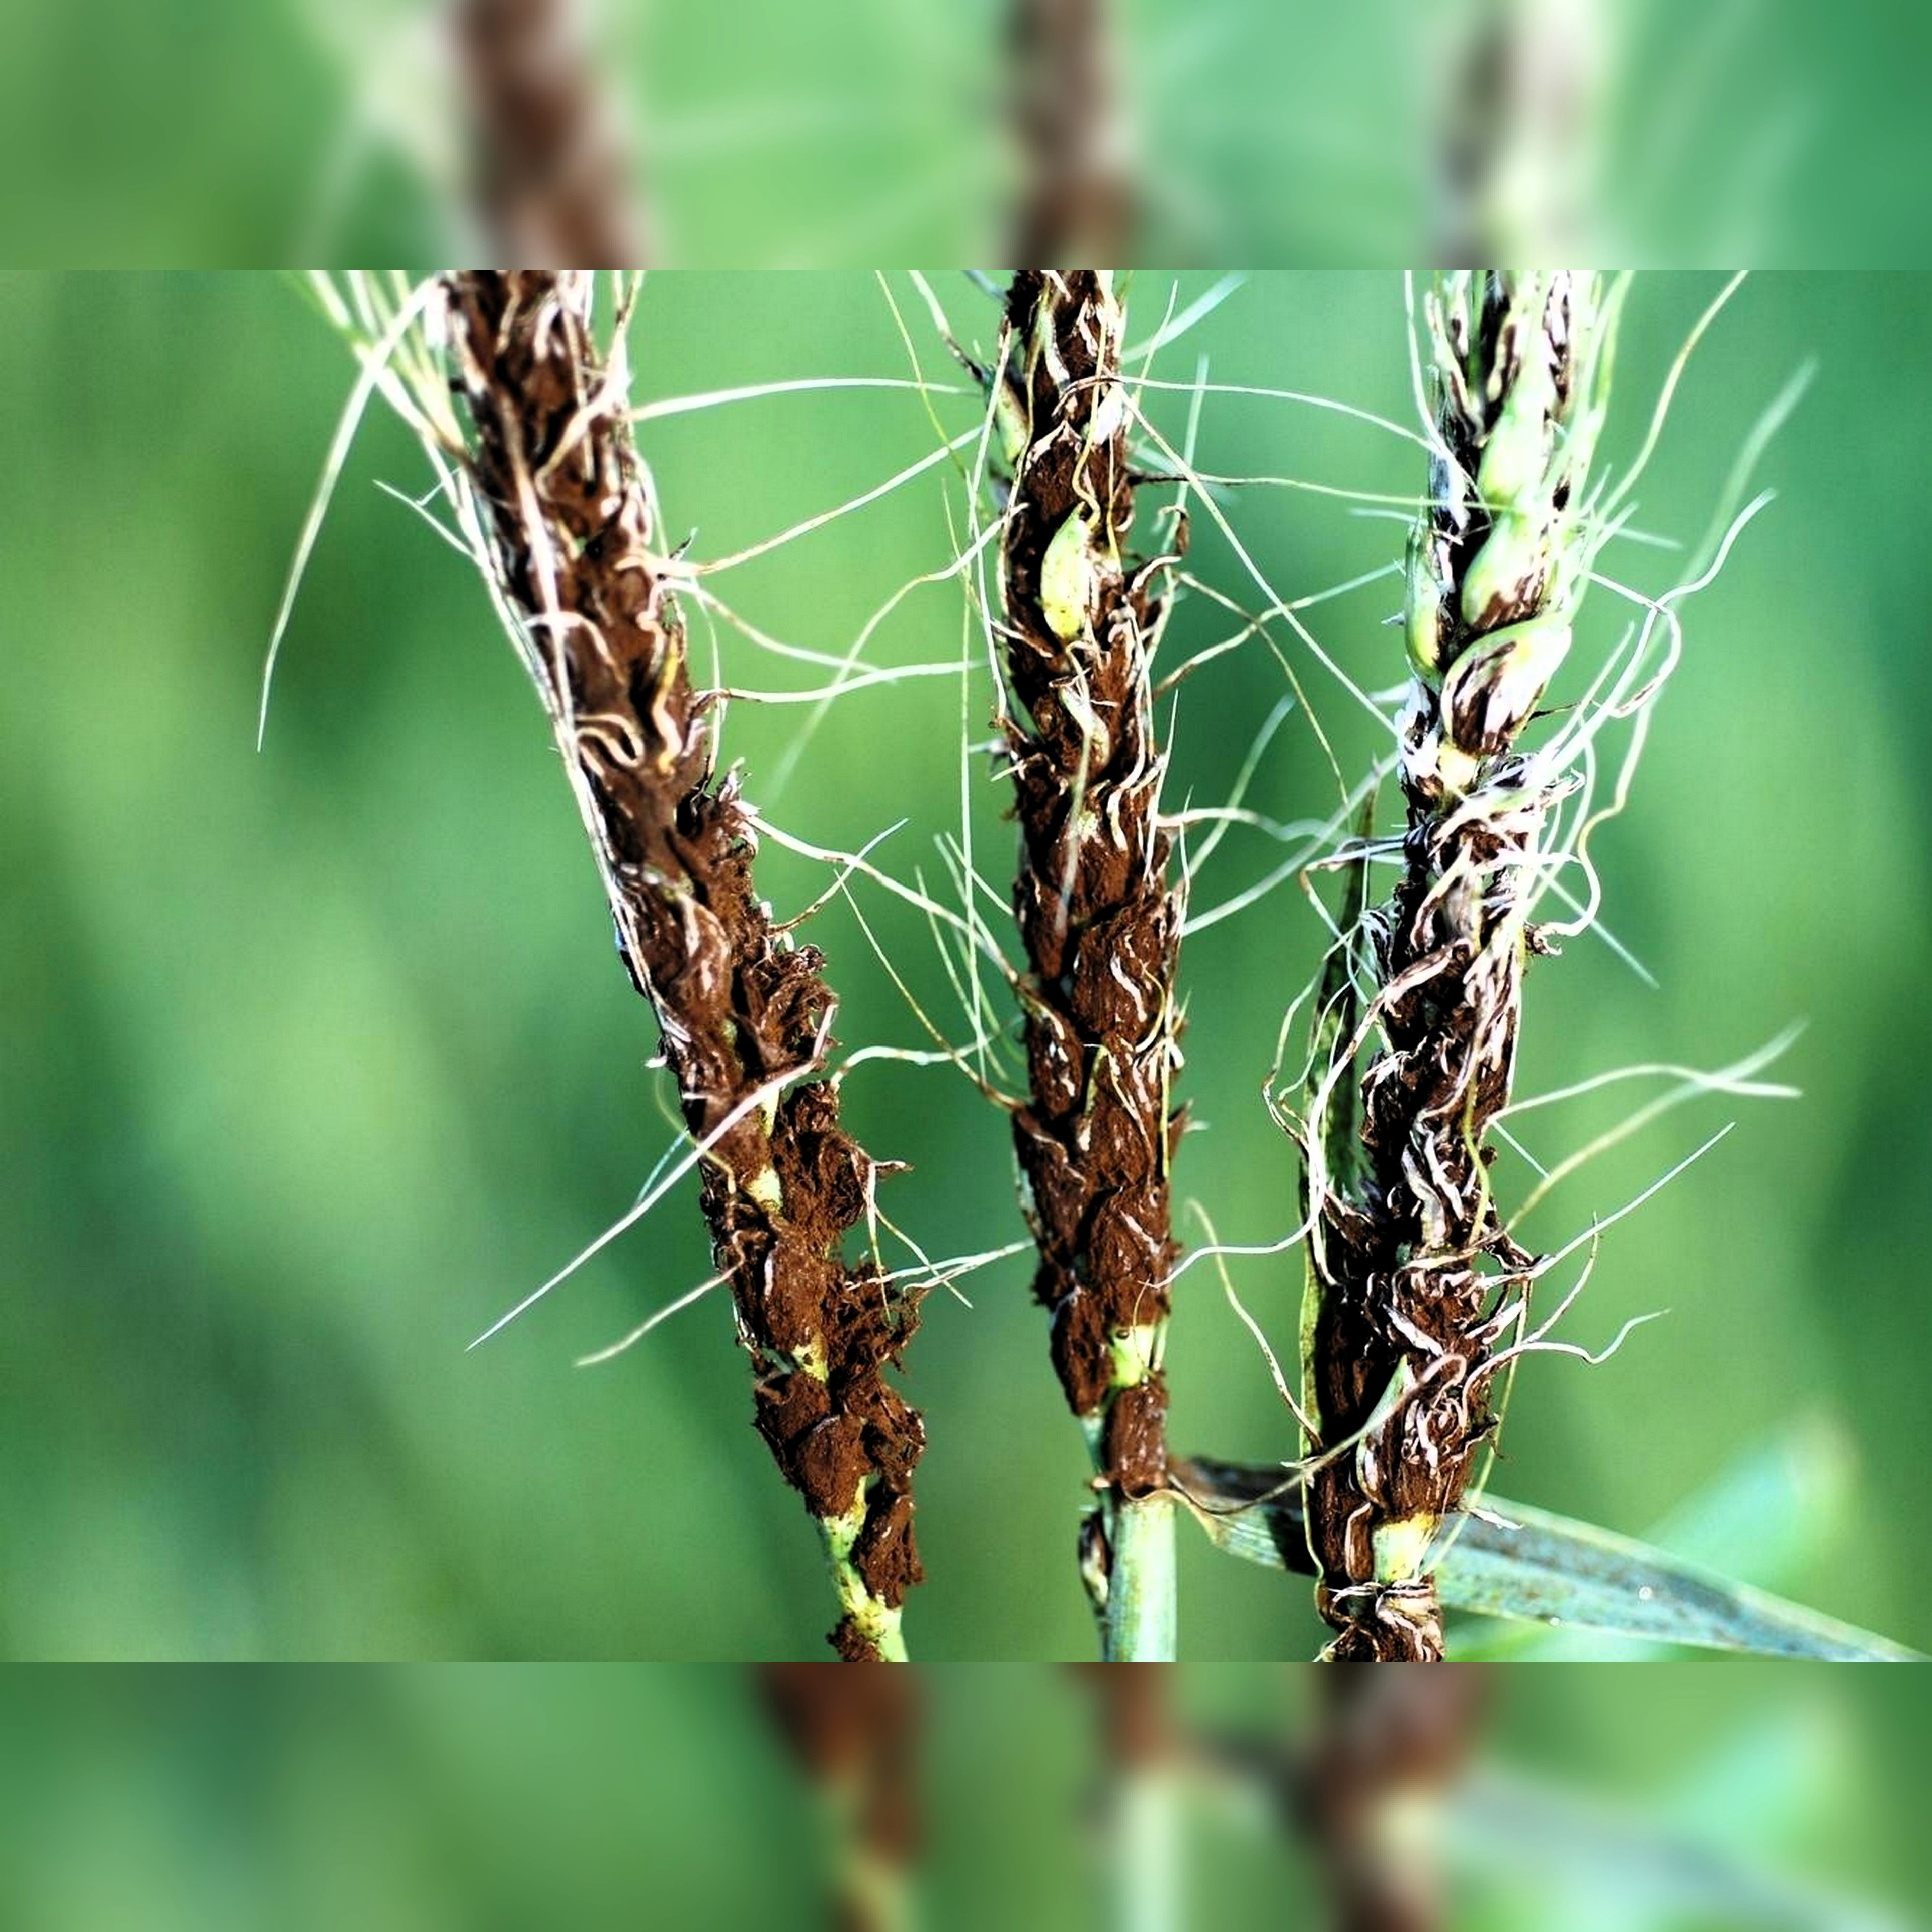Wheat Loose Smut: (1281, 310, 1709, 1461)
